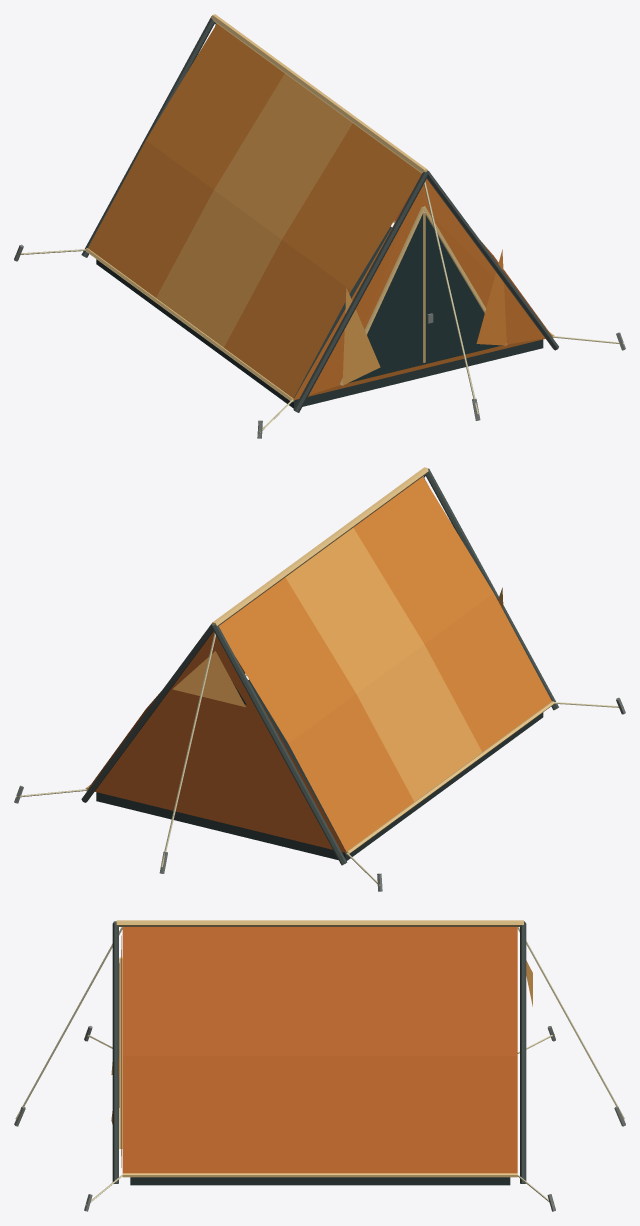
File: 01_small_a_frame.glb
3 renders of one model, top to bottom at view 1: azimuth 30°, elevation 25°; view 2: azimuth 150°, elevation 25°; view 3: azimuth 270°, elevation 25°, orthographic. The views are drawn at different scales.
Visible parts, largest first — view 1: Left_Fly_Panel_1, Left_Fly_Panel_3, Left_Fly_Panel_2, Front_Inset_Mesh_Door, Front_Door_Frame, Bathtub_Groundsheet, Front_Left_Pole, Ridge_Cap, Left_Door_Tieback, Front_Right_Pole, Right_Door_Tieback, Rear_Left_Pole (+3 smaller); view 2: Left_Fly_Panel_1, Left_Fly_Panel_2, Left_Fly_Panel_3, Rear_Canvas, Bathtub_Groundsheet, Rear_Left_Pole, Ridge_Cap, Rear_Vent_Hood, Rear_Right_Pole, Front_Left_Pole, Left_Hem_01, B_Ridge_Guyline; view 3: Right_Fly_Panel_1, Right_Fly_Panel_2, Right_Fly_Panel_3, Bathtub_Groundsheet, Ridge_Cap, Right_Hem_01, Rear_Right_Pole, Front_Right_Pole, Door_Binding_02, B_Ridge_Guyline, F_Ridge_Guyline.
Part boxes in pixels (x1,y1,x2,y2): Left_Fly_Panel_1: (224,123,421,398); Left_Fly_Panel_3: (88,24,284,297); Left_Fly_Panel_2: (156,74,352,347); Front_Inset_Mesh_Door: (349,214,502,382); Front_Door_Frame: (293,179,552,400); Bathtub_Groundsheet: (96,226,543,408); Front_Left_Pole: (293,171,427,412); Ridge_Cap: (211,14,427,173); Left_Door_Tieback: (342,287,380,385); Front_Right_Pole: (426,171,558,350); Right_Door_Tieback: (476,249,506,345); Rear_Left_Pole: (81,16,215,257); Left_Fly_Panel_1: (353,477,551,751); Left_Fly_Panel_2: (285,527,481,801); Left_Fly_Panel_3: (219,577,413,851); Rear_Canvas: (88,631,346,852); Bathtub_Groundsheet: (96,679,543,860); Rear_Left_Pole: (212,624,347,865); Ridge_Cap: (212,467,428,625); Rear_Vent_Hood: (172,651,245,707); Rear_Right_Pole: (81,623,213,802); Front_Left_Pole: (425,468,558,710); Left_Hem_01: (345,701,554,854); B_Ridge_Guyline: (161,633,215,867); Right_Fly_Panel_1: (122,927,256,1173); Right_Fly_Panel_2: (256,927,386,1173); Right_Fly_Panel_3: (387,927,517,1173); Bathtub_Groundsheet: (130,1177,510,1185); Ridge_Cap: (116,920,523,926); Right_Hem_01: (122,1173,517,1177); Rear_Right_Pole: (520,923,526,1183); Front_Right_Pole: (112,923,118,1183); Door_Binding_02: (119,958,122,1148); B_Ridge_Guyline: (517,927,624,1119); F_Ridge_Guyline: (15,927,123,1119).
Bounding box in the file's own units: 2.69 × 1.49 × 4.03.
